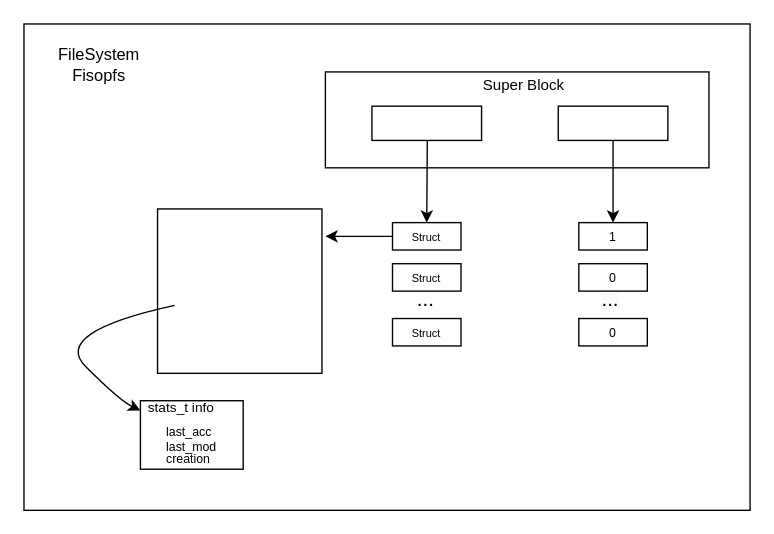
This 774x534 diagram has some shape labels left out. Each missing label, with the centre of its shape:
"Bitmap" belongs at point 612,122.
"Inode" belongs at point 426,122.
"type size id_user id_grup mode info link num path content directory_path" belongs at point 239,290.
